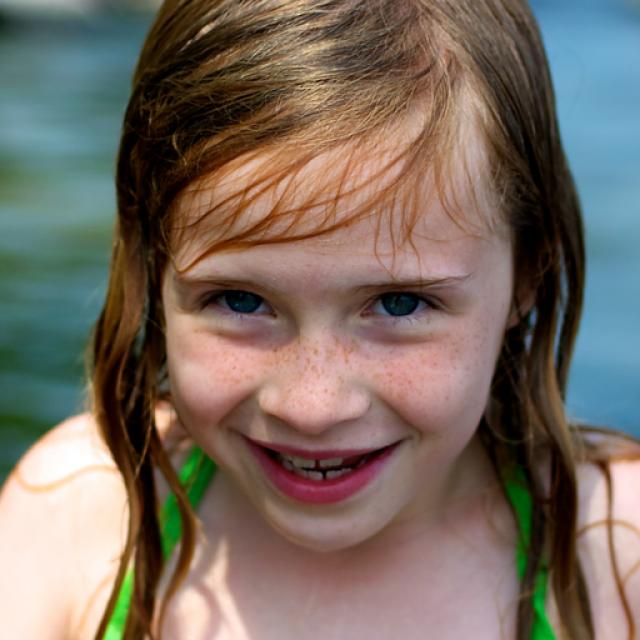Pigmentation: (211, 330, 431, 411)
